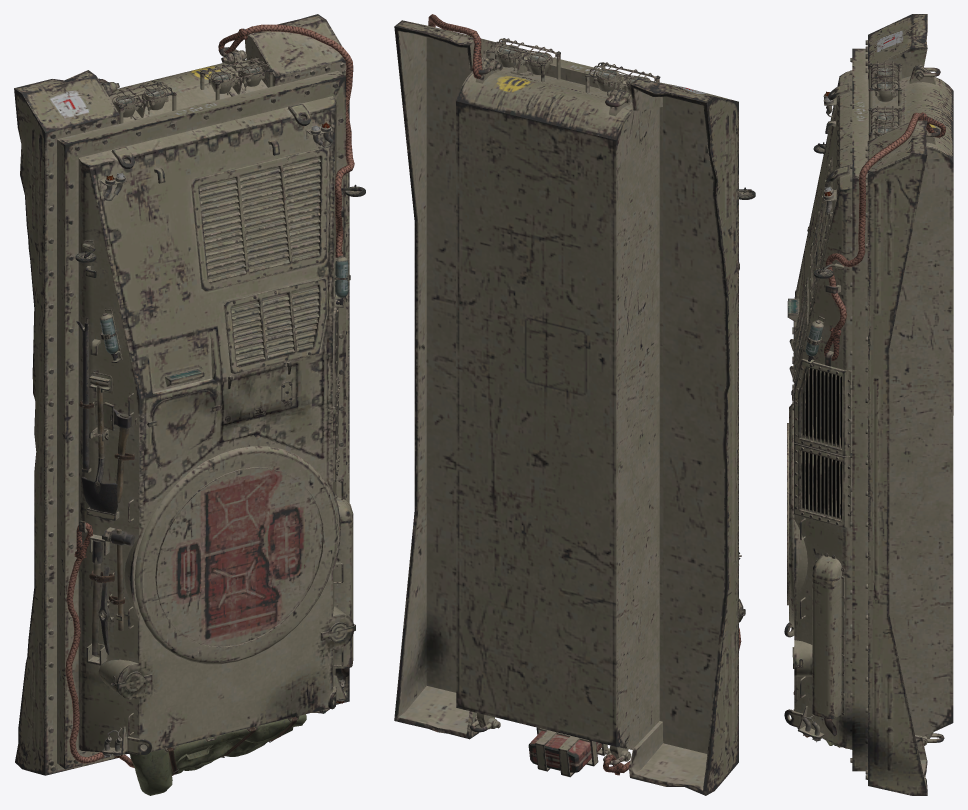
File: Hull.glb
3 renders of one model, left to right at view 1: azimuth 30°, elevation 25°; view 2: azimuth 150°, elevation 25°; view 3: azimuth 270°, elevation 25°, orthographic. The views are drawn at different scales.
Parts seen in each view (by area): view 1: set_0_group_0; view 2: set_0_group_0; view 3: set_0_group_0.
Part boxes in pixels (x1,y1,x2,y2): set_0_group_0: (14, 14, 365, 795); set_0_group_0: (394, 14, 755, 795); set_0_group_0: (784, 14, 953, 795).
Size of the model in its own units: 2.2 by 4.81 by 1.11.
Materials: 1 (1 with a texture image).
